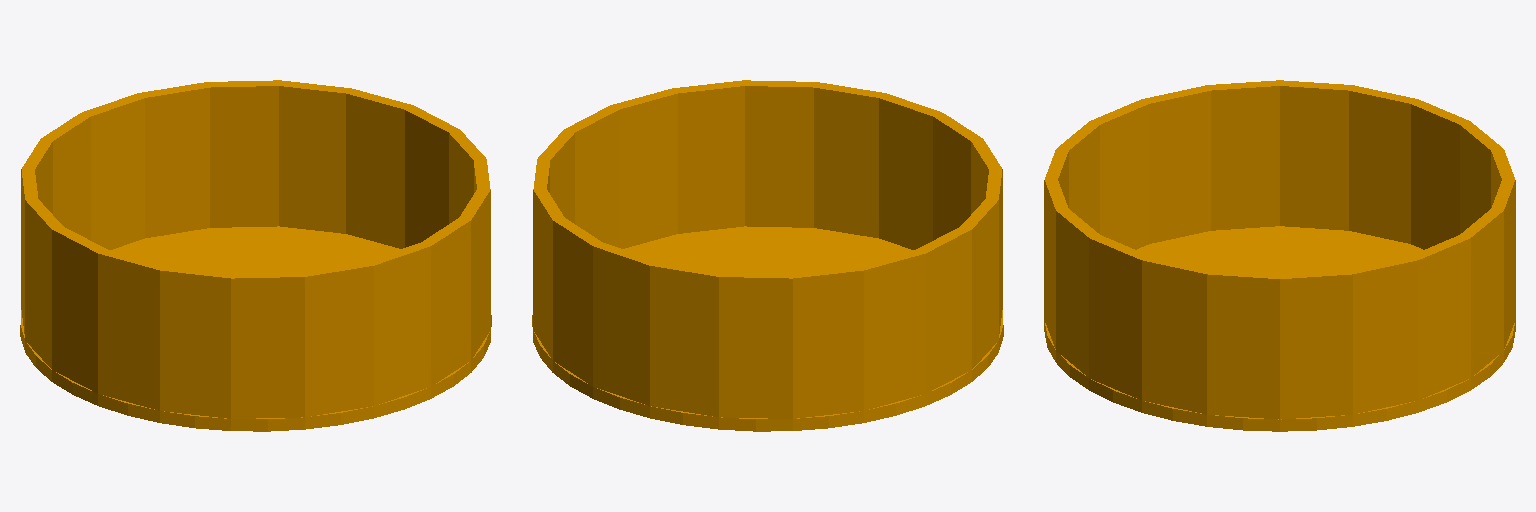
robot.urdf — scoop_source_True_0:
<?xml version='1.0' encoding='utf-8'?>
<robot name="scoop_source_True_0">
  <link name="body">
    <inertial>
      <origin xyz="-1.5720931501039814e-17 -1.5720931501039814e-17 0.03188604740638324" />
      <mass value="0.4" />
      <inertia ixx="0.003299491049115604" iyy="0.0032994910491156034" izz="0.005789055116318561" ixy="-9.629705819097327e-20" ixz="-7.015831193404343e-20" iyz="1.1432465947871603e-19" />
    </inertial>
    <collision>
      <geometry>
        <mesh filename="part_00.obj" />
      </geometry>
    </collision>
    <collision>
      <geometry>
        <mesh filename="part_01.obj" />
      </geometry>
    </collision>
    <collision>
      <geometry>
        <mesh filename="part_02.obj" />
      </geometry>
    </collision>
    <collision>
      <geometry>
        <mesh filename="part_03.obj" />
      </geometry>
    </collision>
    <collision>
      <geometry>
        <mesh filename="part_04.obj" />
      </geometry>
    </collision>
    <collision>
      <geometry>
        <mesh filename="part_05.obj" />
      </geometry>
    </collision>
    <collision>
      <geometry>
        <mesh filename="part_06.obj" />
      </geometry>
    </collision>
    <collision>
      <geometry>
        <mesh filename="part_07.obj" />
      </geometry>
    </collision>
    <collision>
      <geometry>
        <mesh filename="part_08.obj" />
      </geometry>
    </collision>
    <collision>
      <geometry>
        <mesh filename="part_09.obj" />
      </geometry>
    </collision>
    <collision>
      <geometry>
        <mesh filename="part_10.obj" />
      </geometry>
    </collision>
    <collision>
      <geometry>
        <mesh filename="part_11.obj" />
      </geometry>
    </collision>
    <collision>
      <geometry>
        <mesh filename="part_12.obj" />
      </geometry>
    </collision>
    <collision>
      <geometry>
        <mesh filename="part_13.obj" />
      </geometry>
    </collision>
    <collision>
      <geometry>
        <mesh filename="part_14.obj" />
      </geometry>
    </collision>
    <collision>
      <geometry>
        <mesh filename="part_15.obj" />
      </geometry>
    </collision>
    <collision>
      <geometry>
        <mesh filename="part_16.obj" />
      </geometry>
    </collision>
    <collision>
      <geometry>
        <mesh filename="part_17.obj" />
      </geometry>
    </collision>
    <collision>
      <geometry>
        <mesh filename="part_18.obj" />
      </geometry>
    </collision>
    <collision>
      <geometry>
        <mesh filename="part_19.obj" />
      </geometry>
    </collision>
    <collision>
      <geometry>
        <mesh filename="part_20.obj" />
      </geometry>
    </collision>
    <visual>
      <geometry>
        <mesh filename="visual.obj" />
      </geometry>
    </visual>
  </link>
</robot>

--- What the picture shows (computed from the rendered views, not written in the file) ---
Views: 3 orthographic renders of the robot side by side, from view 1: azimuth 30°, elevation 25°; view 2: azimuth 150°, elevation 25°; view 3: azimuth 270°, elevation 25°.
Model scoop_source_True_0 with 1 links and 0 joints (none), rooted at body, posed all joints at 0.
Visible links, largest first — view 1: body; view 2: body; view 3: body.
Link boxes in pixels (x1,y1,x2,y2): body: (20,80,491,431); body: (532,80,1003,431); body: (1044,80,1515,431).
Size in the robot's own frame: 0.28 by 0.28 by 0.1 metres.
1 mesh visuals loaded from 1 distinct referenced files (1 OBJ).
